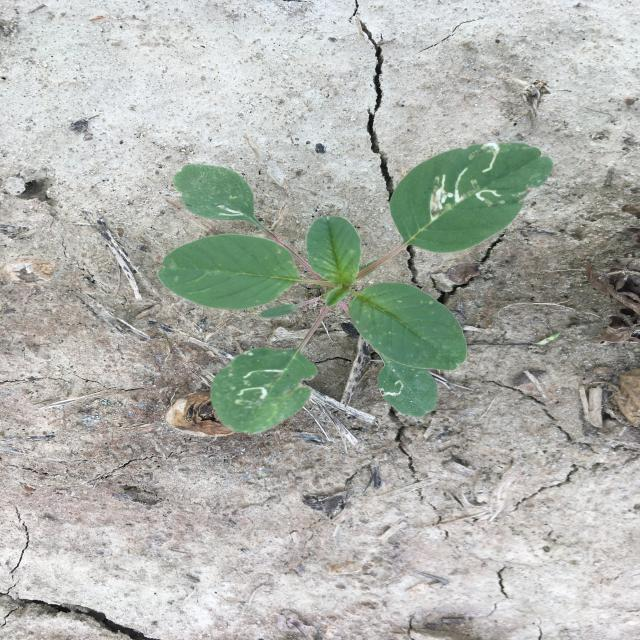PalmerAmaranth: (157, 142, 554, 434)
